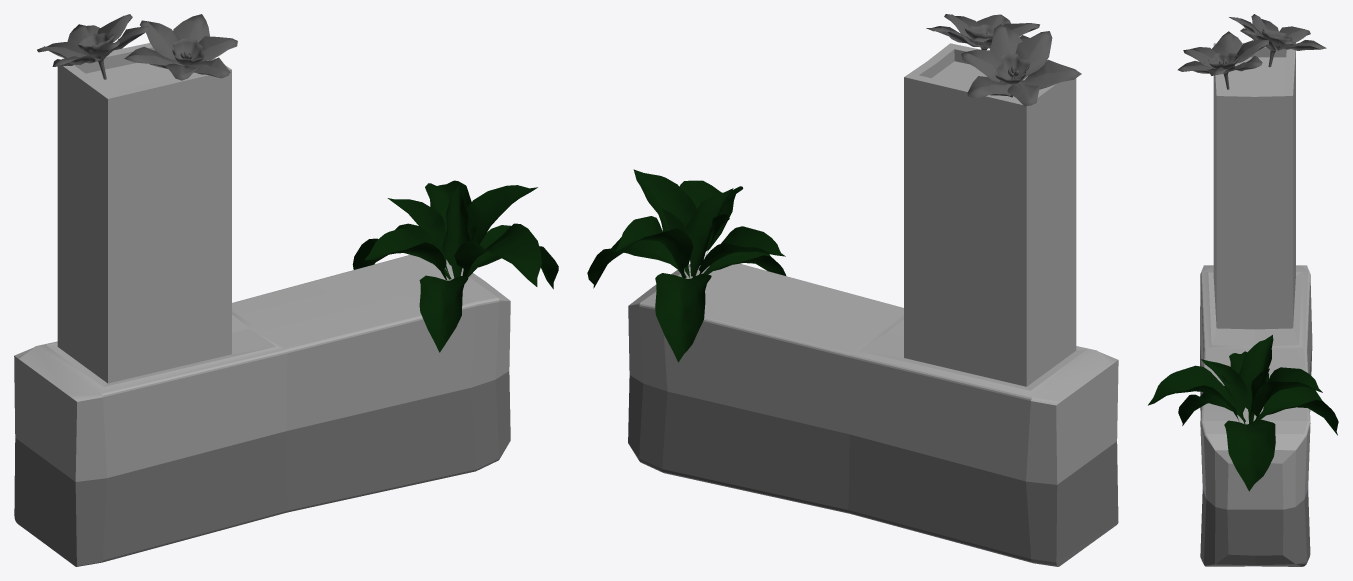
3 renders of one model, left to right at view 1: azimuth 30°, elevation 25°; view 2: azimuth 150°, elevation 25°; view 3: azimuth 270°, elevation 25°, orthographic. The views are drawn at different scales.
Parts seen in each view (by area): view 1: polySurface13, Group_001, Daffodil.yellow8, Daffodil.yellow7; view 2: polySurface13, Group_001, Daffodil.yellow7, Daffodil.yellow8; view 3: polySurface13, Group_001, Daffodil.yellow8, Daffodil.yellow7.
Part boxes in pixels (x1,y1,x2,y2): polySurface13: [14, 43, 510, 566]; Group_001: [352, 180, 558, 352]; Daffodil.yellow8: [124, 14, 237, 80]; Daffodil.yellow7: [37, 14, 149, 79]; polySurface13: [628, 43, 1118, 566]; Group_001: [587, 169, 786, 362]; Daffodil.yellow7: [961, 24, 1081, 106]; Daffodil.yellow8: [926, 14, 1039, 49]; polySurface13: [1200, 43, 1312, 566]; Group_001: [1148, 335, 1338, 491]; Daffodil.yellow8: [1178, 31, 1269, 89]; Daffodil.yellow7: [1229, 14, 1326, 67].
Size of the model in its own units: 4.24 by 4.01 by 1.7.
